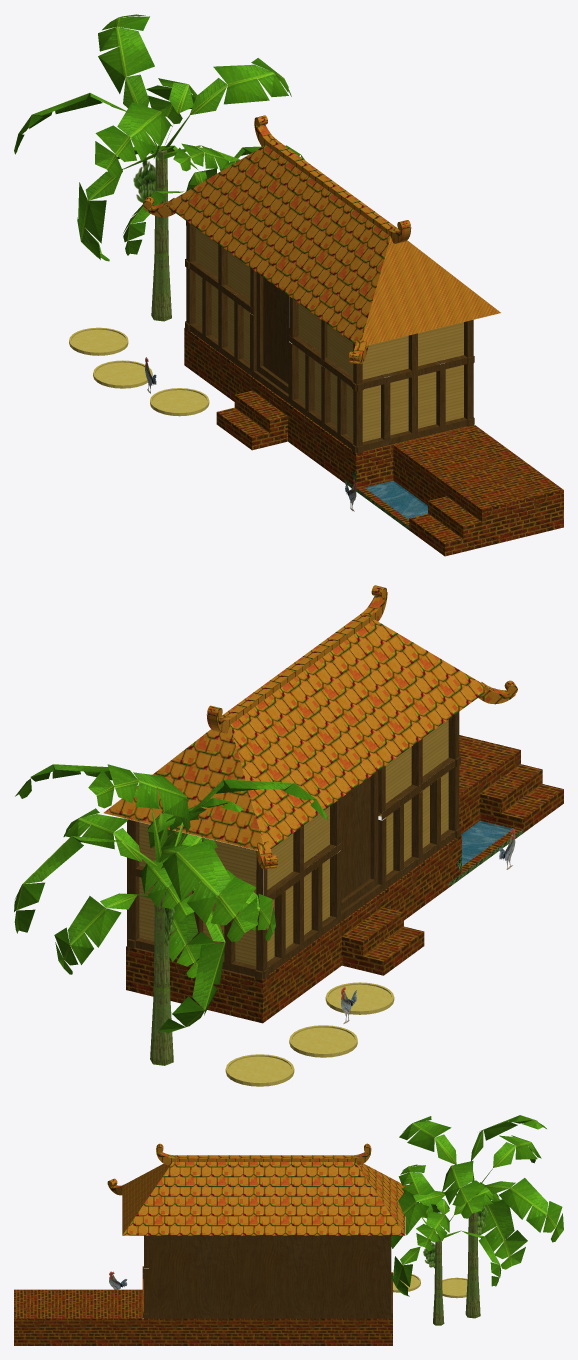
File: rumah.gltf
3 views of the same model, one above another, from view 1: azimuth 30°, elevation 25°; view 2: azimuth 150°, elevation 25°; view 3: azimuth 270°, elevation 25° (orthographic). The views are drawn at different scales.
Parts seen in each view (by area): view 1: house, 20287, village, Leaf-Palm-OpenBent-01.001, Leaf-Palm-OpenBent-01.002, Leaf-Palm-OpenBent-01.006, Trunk-Palm-hex-01, Leaf-Palm-OpenBent-01.003, Leaf-Palm-OpenBent-01.005, Leaf-Palm-OpenBent-01, Leaf-Palm-OpenBent-01.008, Leaf-Palm-OpenBent-01.012 (+1 smaller); view 2: house, 20287, village, Leaf-Palm-OpenBent-01, Leaf-Palm-OpenBent-01.001, Leaf-Palm-OpenBent-01.011, Trunk-Palm-hex-01, Leaf-Palm-OpenBent-01.003, Leaf-Palm-OpenBent-01.005, Leaf-Palm-OpenBent-01.009, Leaf-Palm-OpenBent-01.010, Leaf-Palm-OpenBent-01.013 (+5 smaller); view 3: house, 20288, Leaf-Palm-OpenBent-01.005, Leaf-Palm-OpenBent-01.003, Leaf-Palm-OpenBent-01.006, Leaf-Palm-OpenBent-01.002, Trunk-Palm-hex-01, Leaf-Palm-OpenBent-01.004, Leaf-Palm-OpenBent-01, village, Leaf-Palm-OpenBent-01.009, Leaf-Palm-OpenBent-01.008 (+5 smaller).
Part boxes in pixels (<box>): house: <box>143,140,563,556</box>; 20287: <box>166,145,390,347</box>; village: <box>69,327,356,511</box>; Leaf-Palm-OpenBent-01.001: <box>98,14,157,147</box>; Leaf-Palm-OpenBent-01.002: <box>95,102,172,177</box>; Leaf-Palm-OpenBent-01.006: <box>165,58,291,147</box>; Trunk-Palm-hex-01: <box>151,149,171,321</box>; Leaf-Palm-OpenBent-01.003: <box>77,149,170,261</box>; Leaf-Palm-OpenBent-01.005: <box>146,78,197,146</box>; Leaf-Palm-OpenBent-01: <box>14,93,158,160</box>; Leaf-Palm-OpenBent-01.008: <box>173,143,229,171</box>; Leaf-Palm-OpenBent-01.012: <box>123,191,185,255</box>; house: <box>103,613,563,1023</box>; 20287: <box>230,619,490,850</box>; village: <box>225,828,515,1086</box>; Leaf-Palm-OpenBent-01: <box>159,839,257,941</box>; Leaf-Palm-OpenBent-01.001: <box>88,764,190,868</box>; Leaf-Palm-OpenBent-01.011: <box>54,893,149,974</box>; Trunk-Palm-hex-01: <box>150,878,173,1065</box>; Leaf-Palm-OpenBent-01.003: <box>158,888,225,1032</box>; Leaf-Palm-OpenBent-01.005: <box>14,836,158,933</box>; Leaf-Palm-OpenBent-01.009: <box>63,808,154,885</box>; Leaf-Palm-OpenBent-01.010: <box>154,896,214,978</box>; Leaf-Palm-OpenBent-01.013: <box>140,857,194,921</box>; house: <box>14,1155,412,1345</box>; 20288: <box>122,1160,405,1235</box>; Leaf-Palm-OpenBent-01.005: <box>476,1178,563,1242</box>; Leaf-Palm-OpenBent-01.003: <box>481,1194,527,1269</box>; Leaf-Palm-OpenBent-01.006: <box>442,1161,485,1218</box>; Leaf-Palm-OpenBent-01.002: <box>399,1116,467,1184</box>; Trunk-Palm-hex-01: <box>465,1199,480,1318</box>; Leaf-Palm-OpenBent-01.004: <box>391,1190,456,1248</box>; Leaf-Palm-OpenBent-01: <box>481,1135,541,1183</box>; village: <box>109,1271,467,1298</box>; Leaf-Palm-OpenBent-01.009: <box>416,1211,449,1250</box>; Leaf-Palm-OpenBent-01.008: <box>398,1164,434,1217</box>.
Size of the model in its own units: 4.03 by 4.4 by 10.98.
Materials: 1174 (616 with a texture image).
